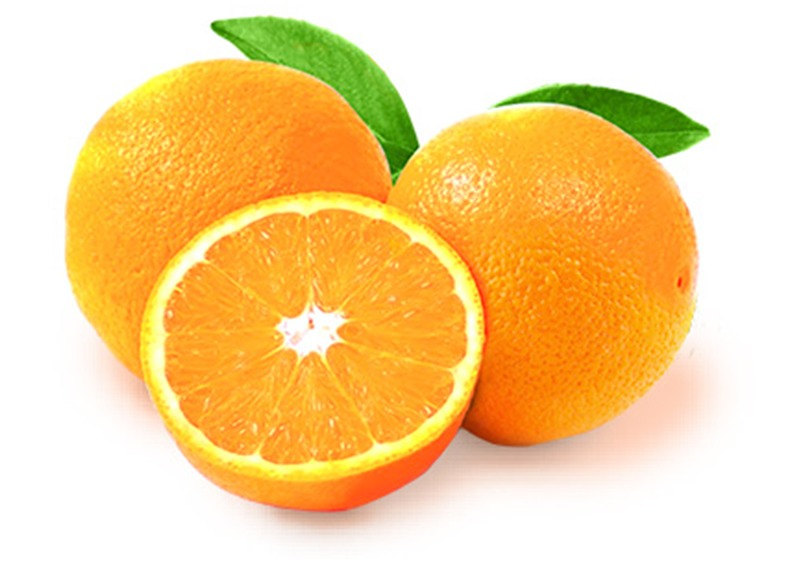orange: (58, 69, 410, 432), (368, 109, 706, 470)
